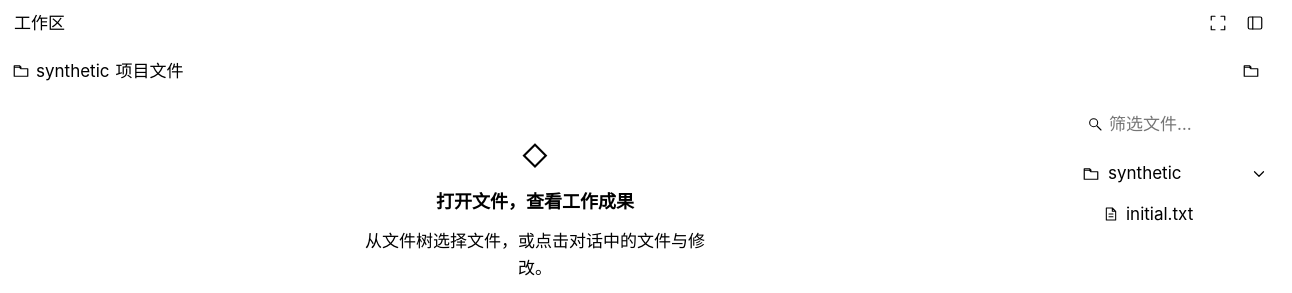
Test: chooses a browsing directory without creating a conversation
Check: the list item "initial.txt" is shown, box [1070, 195, 1280, 233]
Click the button with aria-label "选择浏览目录": (1175, 173) [1070, 152, 1280, 195]
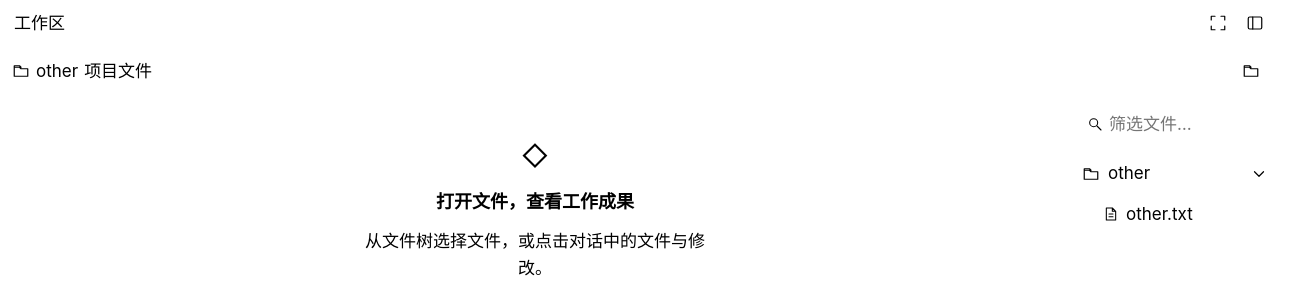
Check: the list item "other.txt" is shown, box [1070, 195, 1280, 233]
